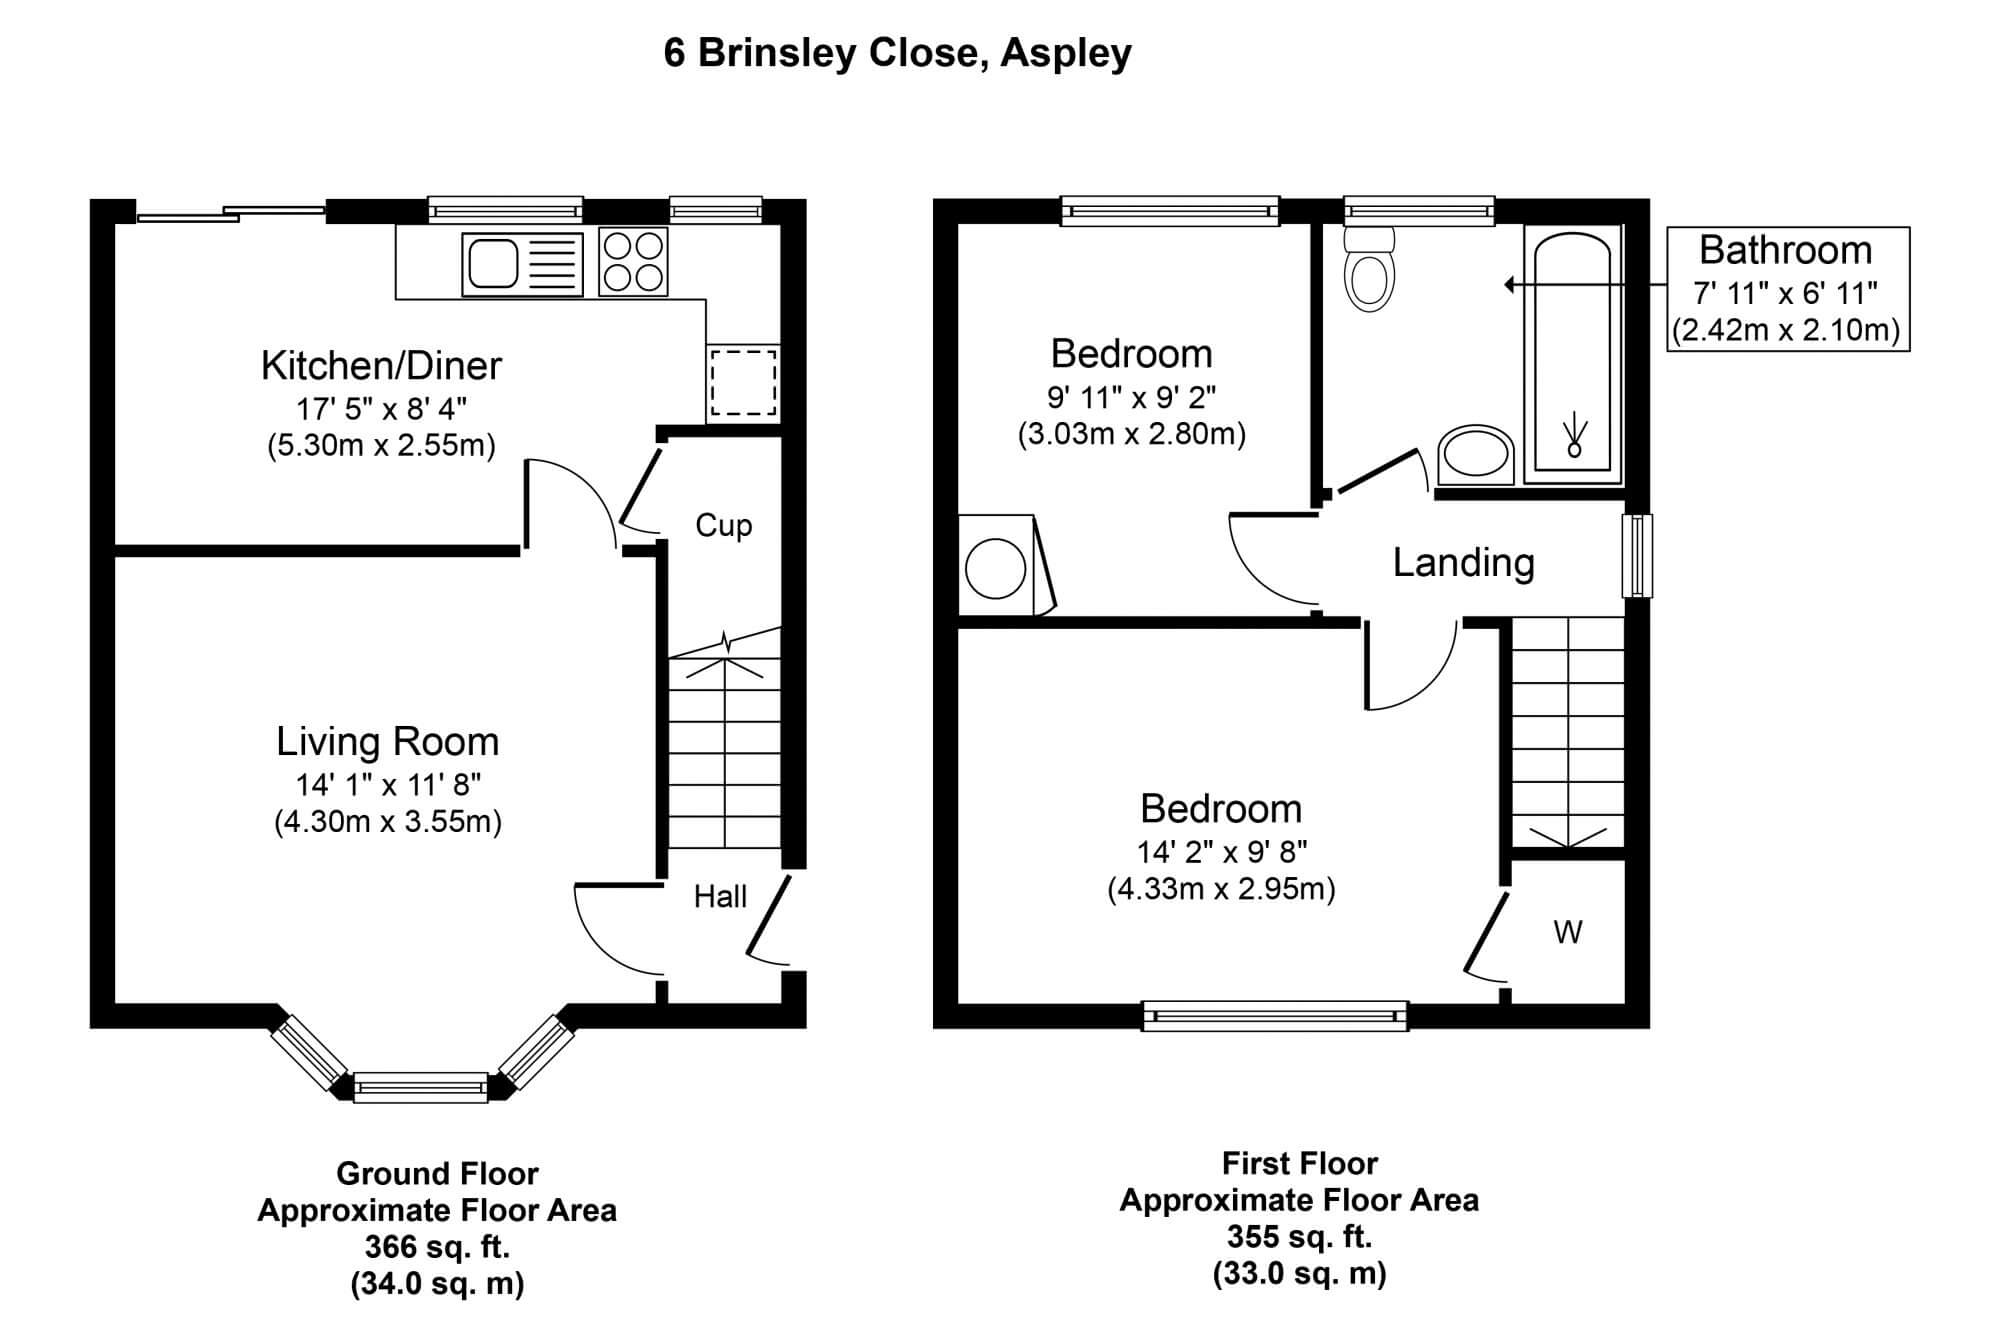door: (1359, 618, 1460, 715), (572, 873, 656, 982), (1223, 507, 1314, 605), (521, 450, 612, 547), (1460, 890, 1517, 983), (1336, 441, 1428, 495), (621, 452, 673, 541)
